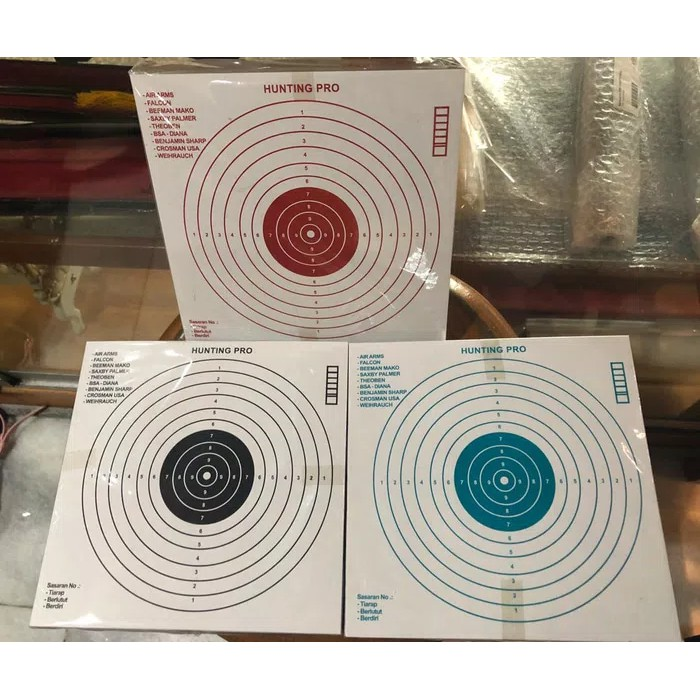target: (368, 348, 658, 640), (72, 353, 347, 618), (165, 90, 447, 338)
